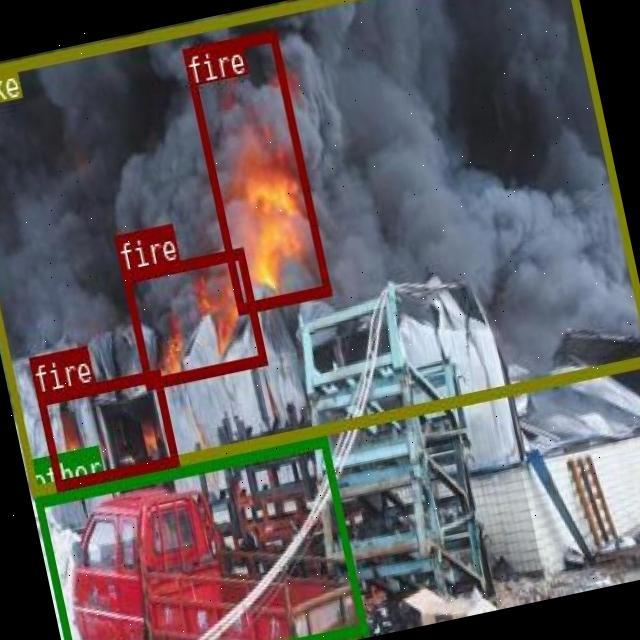fire: (182, 28, 331, 312), (120, 247, 266, 387), (36, 368, 176, 488)
smoke: (0, 0, 640, 493)
